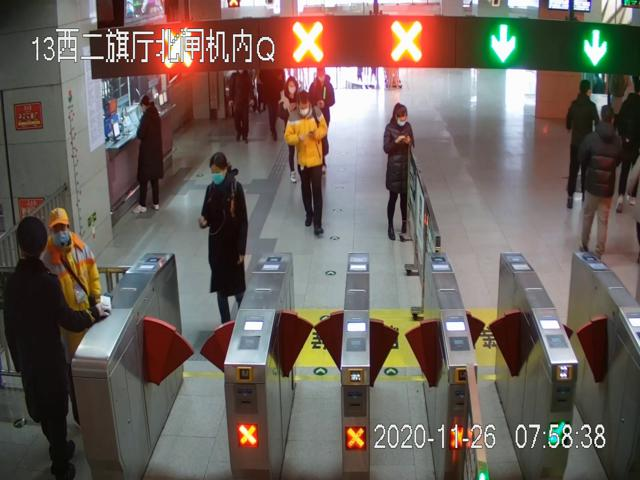person: (9, 211, 81, 480), (42, 198, 114, 430), (200, 145, 253, 331), (582, 104, 621, 258), (286, 95, 328, 235), (383, 100, 416, 244), (131, 88, 164, 217), (565, 76, 594, 212), (310, 63, 335, 173), (281, 76, 303, 184), (226, 66, 256, 144)
